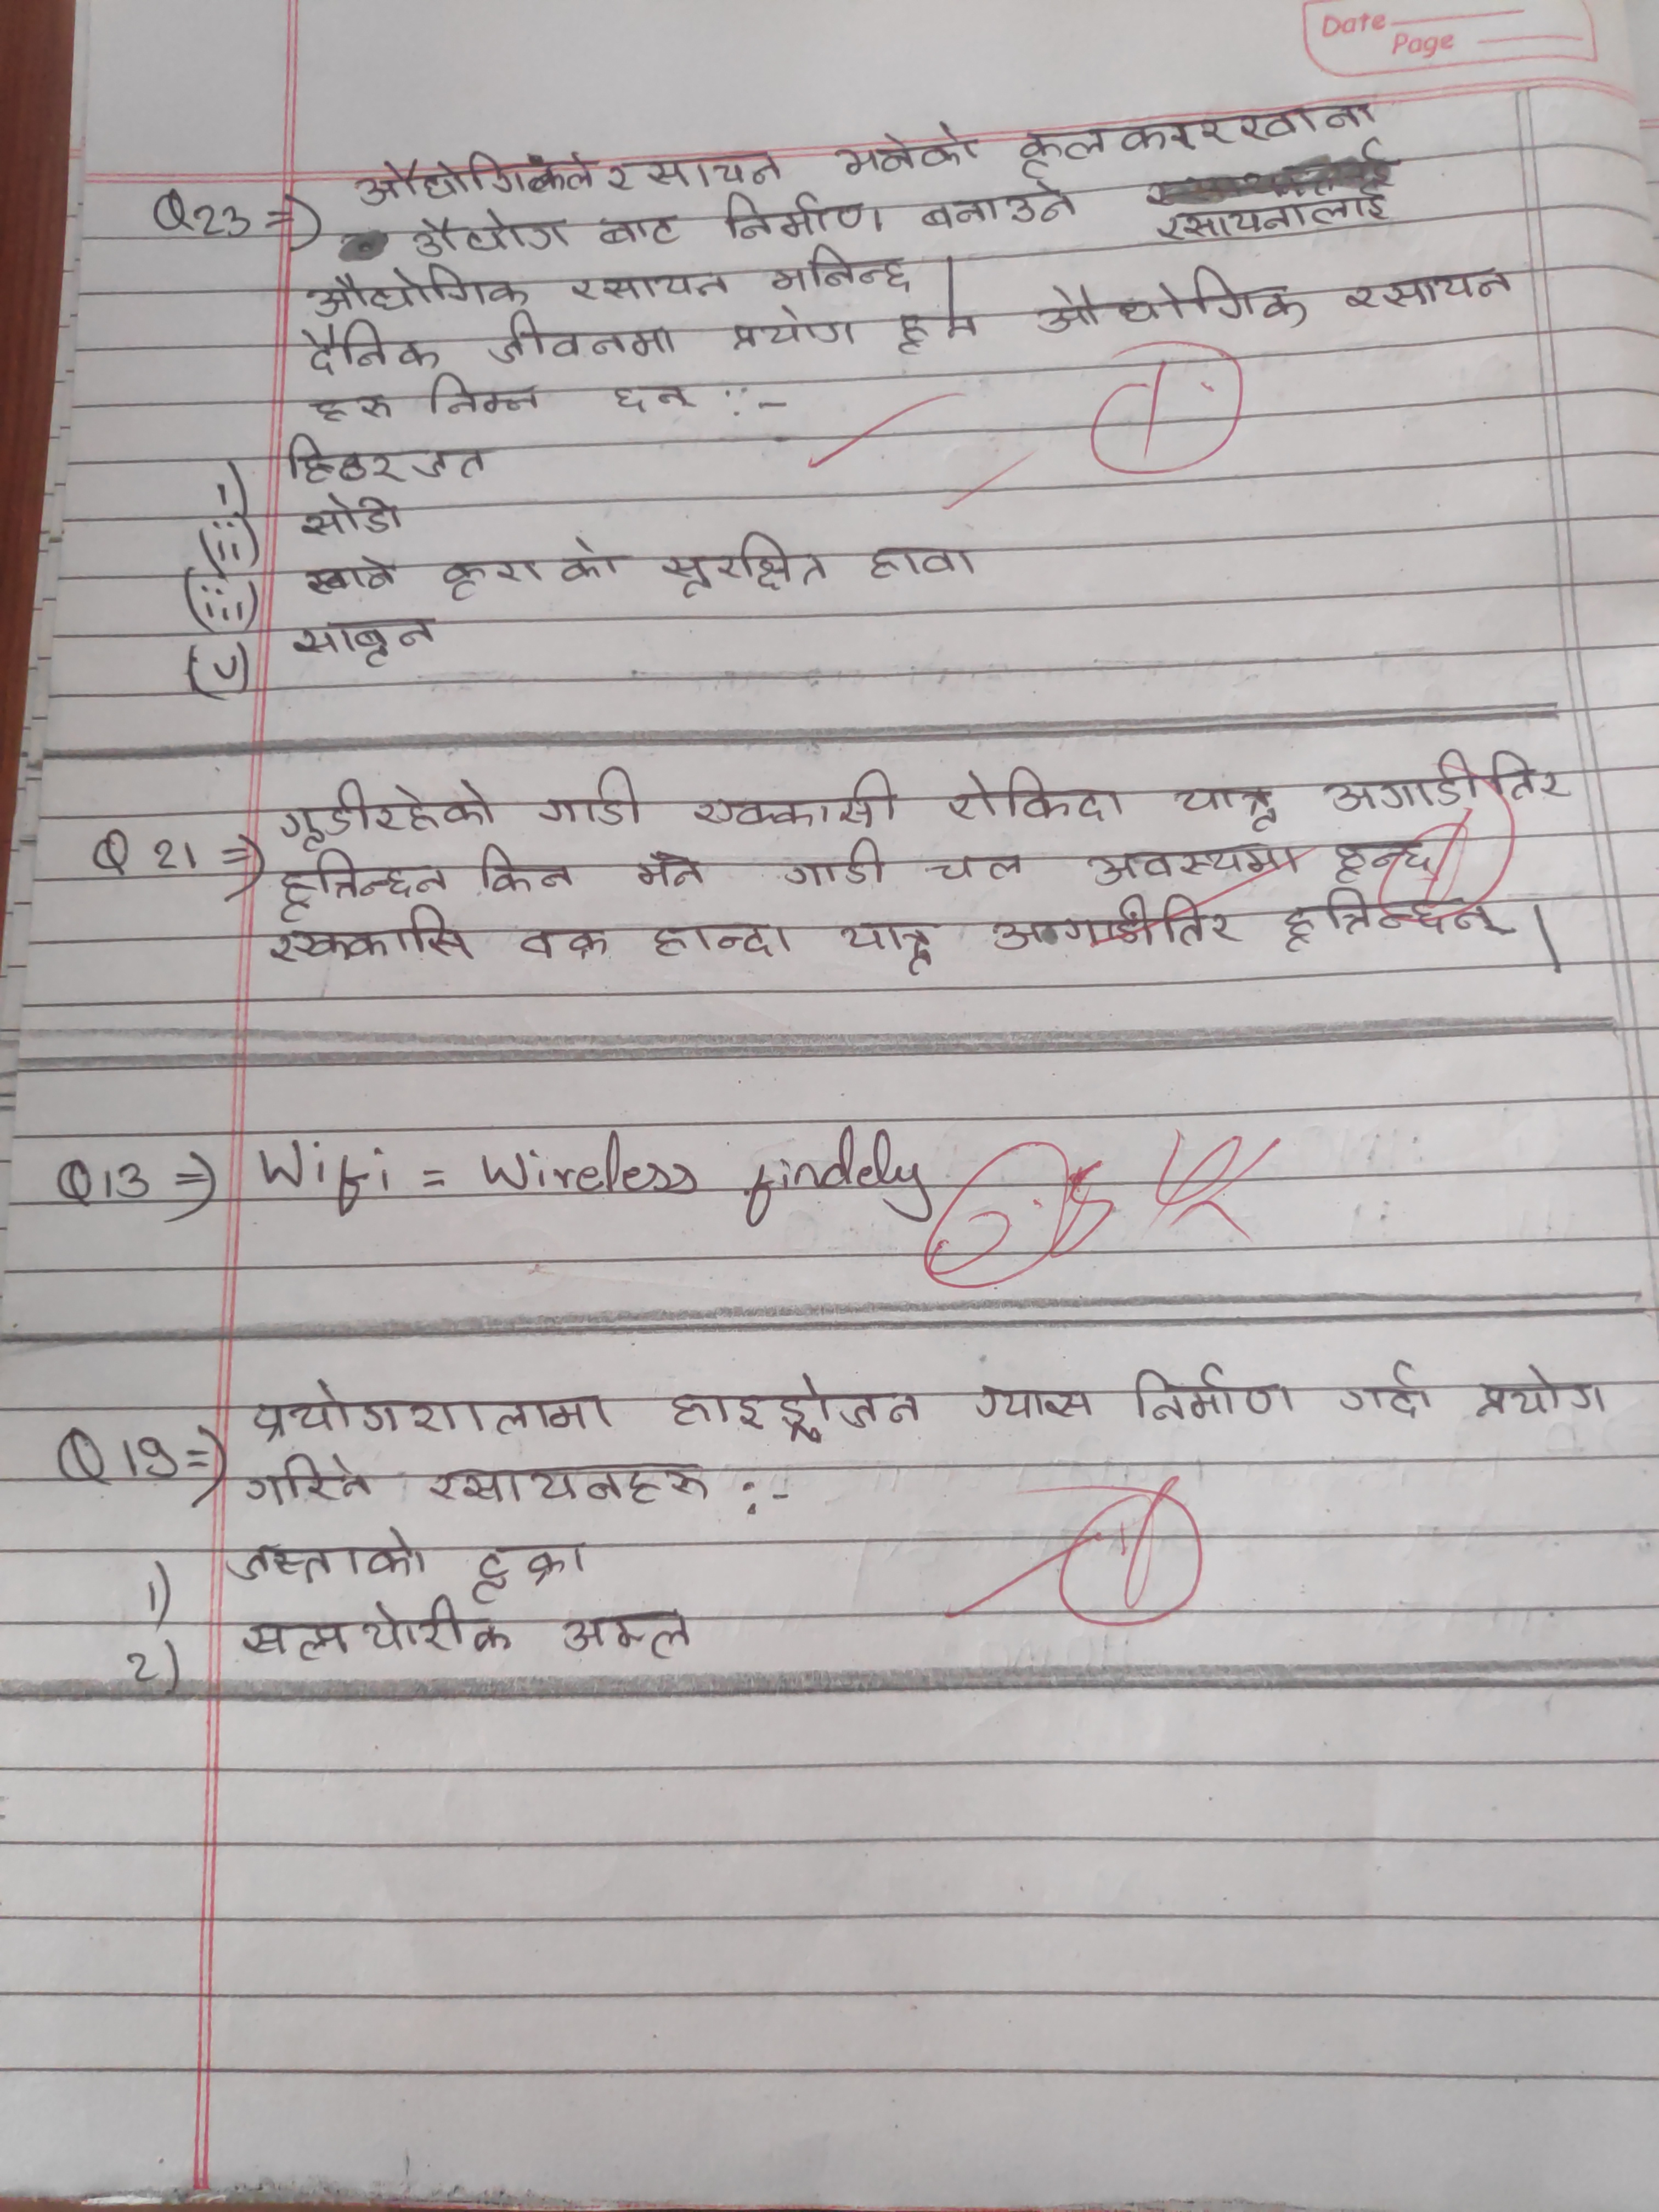text: (247, 1376, 617, 1442), (1033, 261, 1310, 341), (1011, 99, 1385, 152), (667, 1369, 924, 1444), (277, 775, 495, 855), (240, 1599, 516, 1660), (1270, 887, 1520, 953), (347, 150, 596, 207), (657, 526, 833, 606), (687, 768, 906, 831), (1145, 192, 1394, 246), (420, 1463, 720, 1505), (301, 263, 530, 317), (230, 1527, 430, 1588), (1321, 742, 1483, 817), (268, 914, 479, 972), (275, 850, 444, 920), (288, 430, 491, 488), (945, 768, 1129, 831), (1075, 833, 1304, 880), (1124, 1364, 1298, 1421), (986, 899, 1157, 956), (486, 315, 685, 364), (718, 188, 890, 244), (403, 207, 573, 261), (1471, 1360, 1614, 1423), (835, 122, 985, 178), (767, 242, 917, 298), (300, 320, 450, 374), (289, 618, 439, 672), (465, 1540, 592, 1602), (556, 1604, 701, 1658), (537, 763, 650, 831), (242, 1454, 383, 1508), (915, 183, 1080, 228), (725, 301, 864, 354), (636, 145, 782, 192), (648, 918, 795, 965), (775, 834, 890, 894), (830, 920, 948, 977), (563, 265, 732, 303), (1337, 1357, 1434, 1423), (960, 1383, 1101, 1428), (296, 488, 413, 542), (1324, 831, 1439, 885), (1384, 265, 1513, 312), (422, 373, 542, 421), (1166, 782, 1284, 831), (437, 550, 547, 601), (890, 301, 995, 352), (868, 540, 979, 587), (1161, 887, 1239, 953), (301, 550, 403, 601), (477, 846, 579, 897), (1485, 749, 1570, 808), (558, 531, 627, 594), (592, 207, 687, 253), (924, 850, 1030, 888), (303, 381, 394, 425), (606, 380, 701, 420), (633, 845, 708, 892), (516, 928, 608, 963), (1344, 280, 1382, 314), (601, 155, 629, 193)
